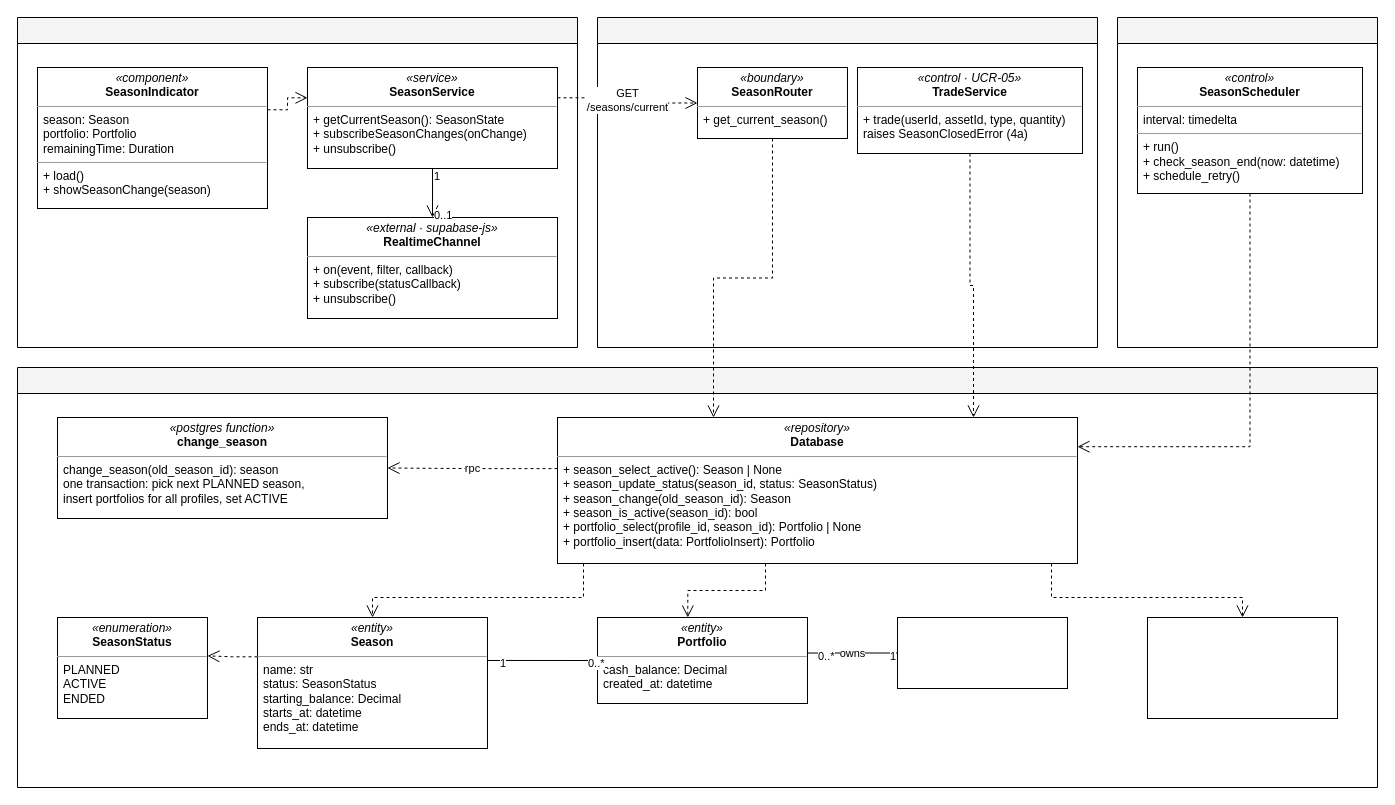
Image size: 1395x805. Some labels were removed from this diagram. The box of each missing label's shape, as (x1, y1, x2, y2) in pixels:
Backend (FastAPI): (596, 16, 1098, 348)
Frontend (Vue): (16, 16, 578, 348)
Game server: (1116, 16, 1378, 348)
Shared (shared/database) + Supabase: (16, 366, 1378, 788)
«entity» Profile display_name: str: (896, 616, 1068, 688)
«schema» PortfolioInsert profile_id: UUID season_id: UUID cash_balance: Decimal: (1146, 616, 1338, 718)
